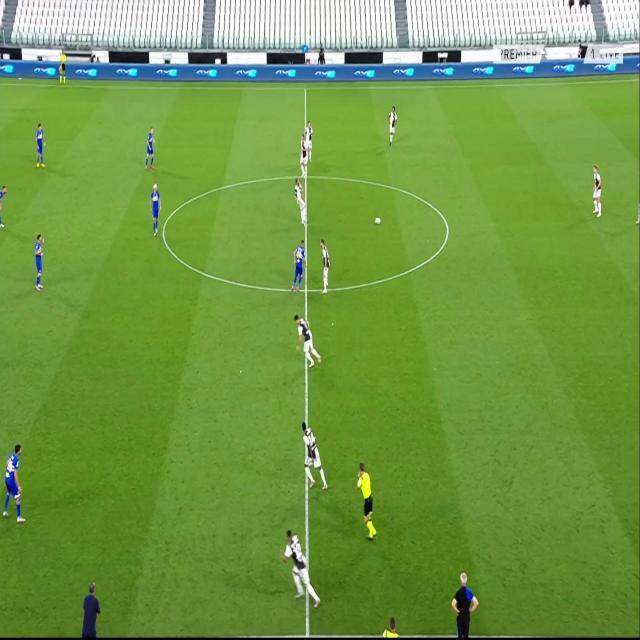ball: (374, 216, 382, 226)
player: (277, 532, 325, 612), (0, 438, 25, 526), (300, 417, 328, 495), (293, 315, 320, 368), (591, 162, 606, 221), (318, 238, 333, 296), (292, 240, 308, 293), (34, 234, 48, 292), (294, 176, 309, 228), (148, 182, 161, 237), (35, 124, 49, 169), (145, 125, 157, 172), (299, 133, 310, 178), (387, 105, 399, 146), (305, 122, 315, 163), (0, 182, 8, 233)
referee: (356, 461, 379, 541), (58, 48, 67, 86)
